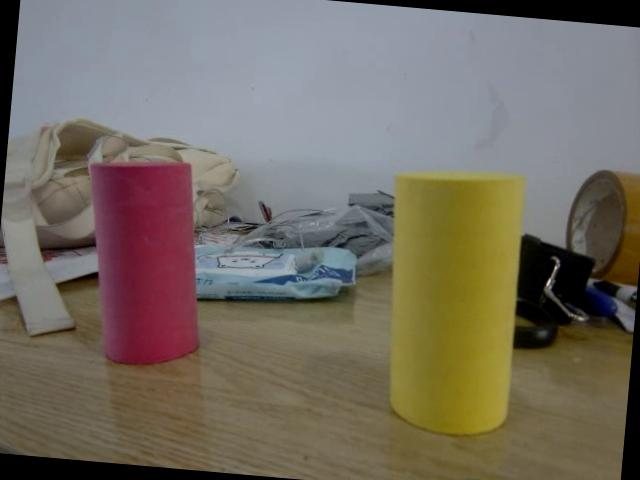red_cylinder: (70, 151, 214, 370)
yellow_cylinder: (374, 163, 528, 440)
